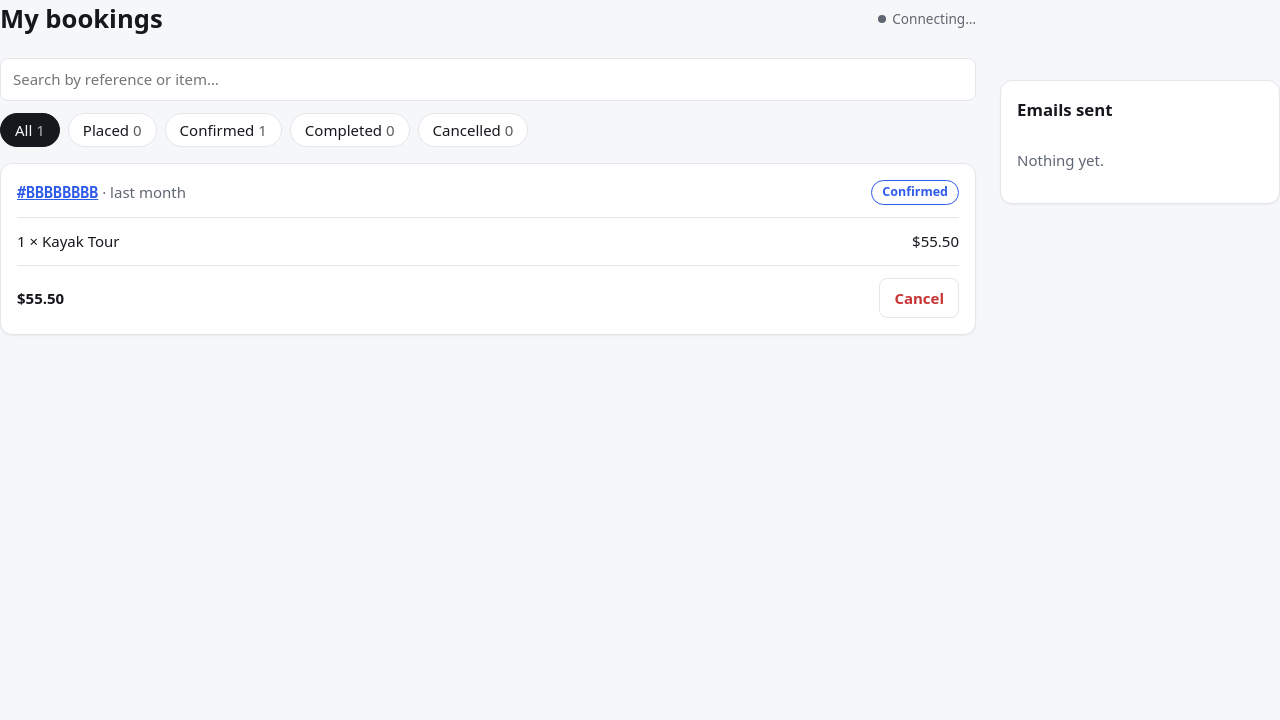
Test: Orders live updates › does not cancel until the dialog is confirmed
Check: the text "Kayak Tour" is shown, box [42, 231, 120, 251]
Click the button "Cancel" at {"x": 919, "y": 298}, box [879, 278, 959, 318]
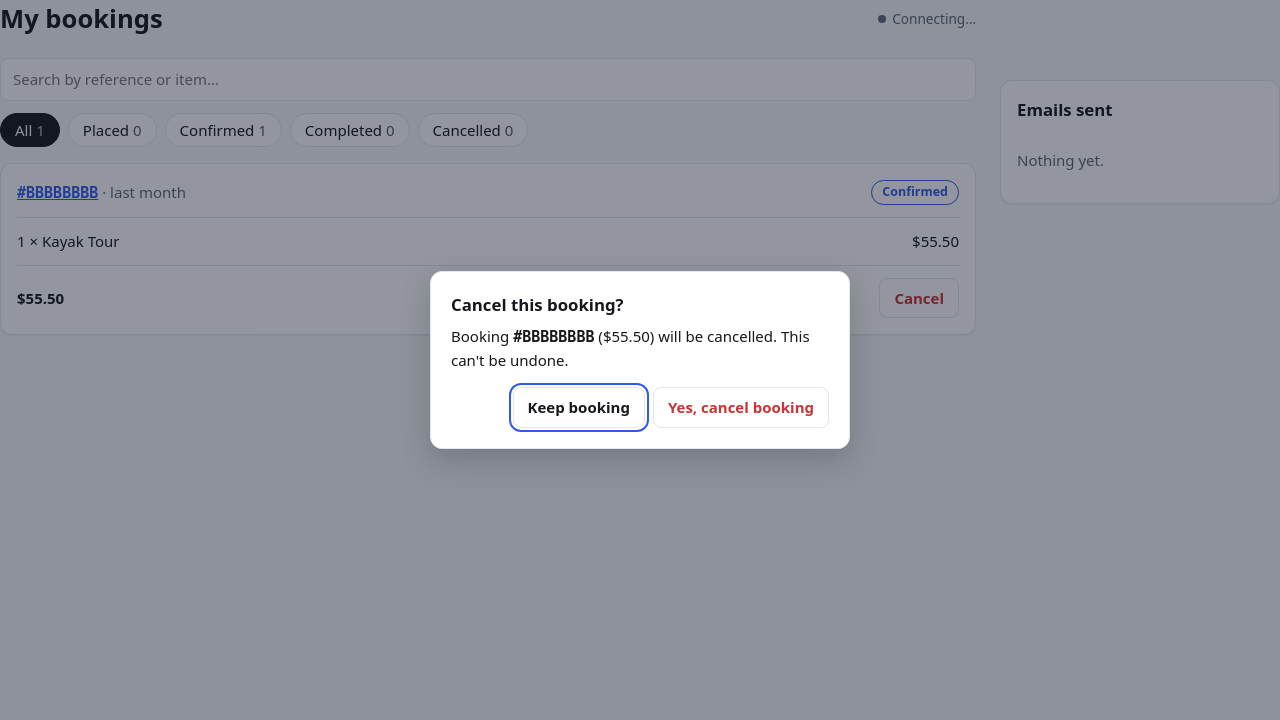
Check: the dialog "Cancel this booking?" shows "#BBBBBBBB", box [513, 328, 594, 346]
Press Escape in the dialog "Cancel this booking?", box [430, 271, 850, 449]
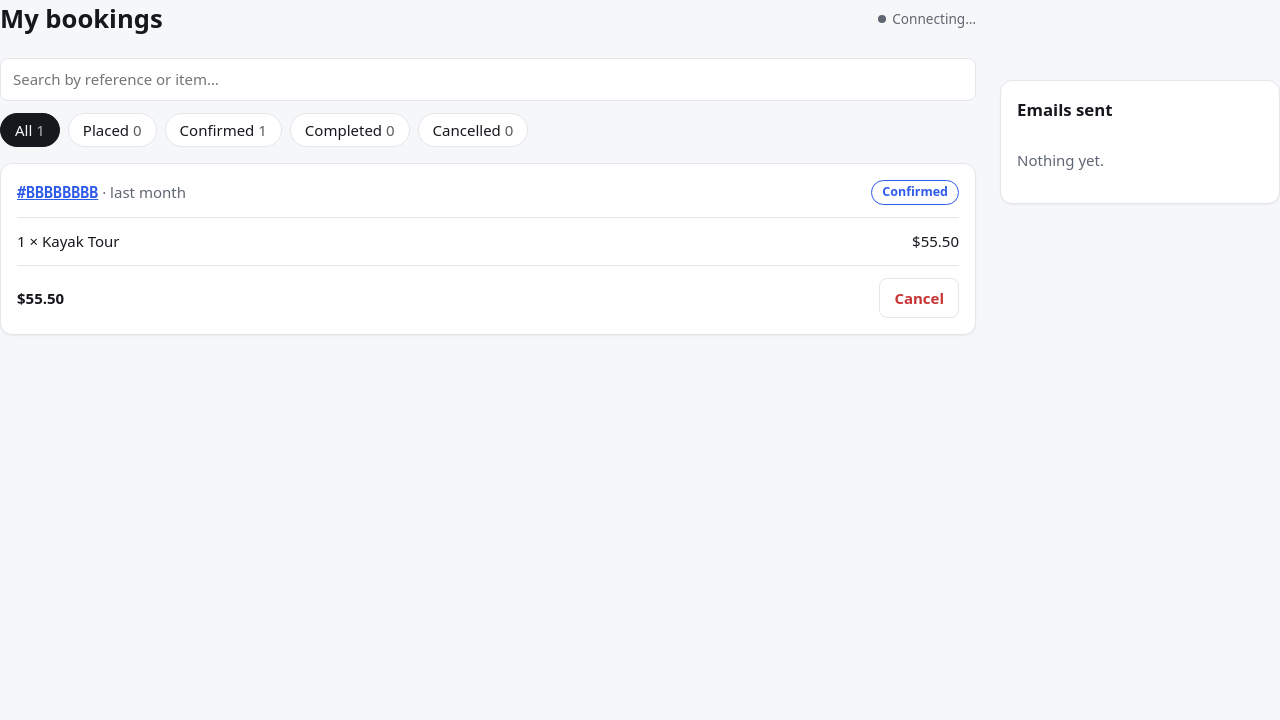
Check: the button "Cancel" is shown, box [879, 278, 959, 318]
Check: the dialog is gone
